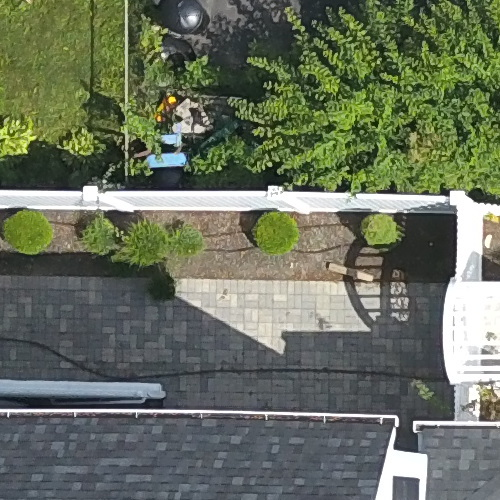clutter: (124, 1, 262, 174)
